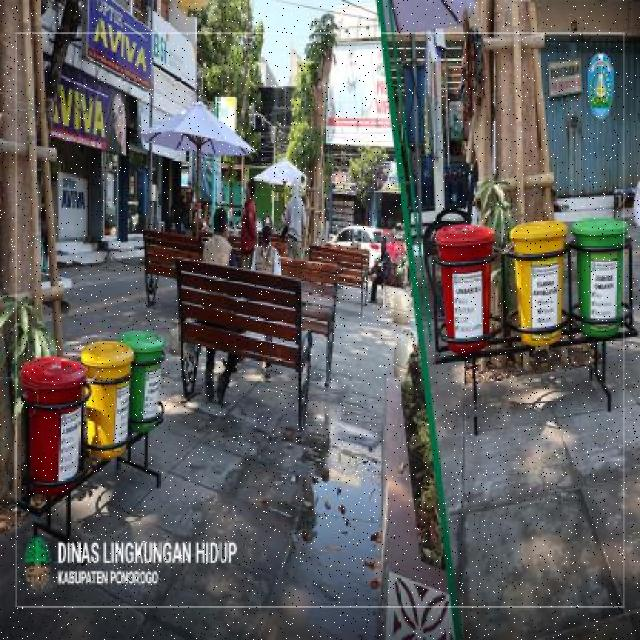garbage container: (428, 214, 498, 371), (18, 345, 85, 497), (506, 219, 569, 359), (568, 208, 628, 352), (81, 332, 134, 468), (119, 321, 170, 436)
